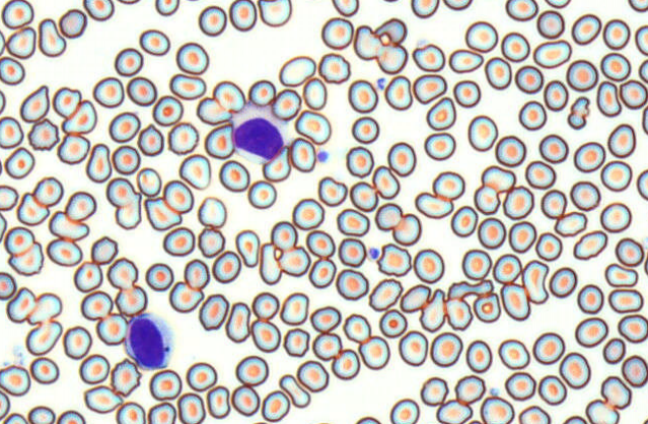LYM: (123, 312, 176, 370)
MONO: (233, 108, 287, 167)
PLT: (317, 148, 331, 164), (367, 246, 381, 261), (374, 77, 388, 91), (489, 387, 503, 399)
RBC: (25, 319, 62, 355), (294, 109, 331, 145), (8, 241, 44, 276), (278, 55, 316, 87), (559, 351, 591, 389), (376, 242, 411, 276), (178, 153, 211, 189), (110, 358, 141, 396), (368, 277, 402, 311), (430, 331, 462, 367), (198, 293, 229, 330), (83, 384, 122, 413), (175, 41, 209, 74), (27, 292, 62, 324), (168, 281, 203, 313), (412, 248, 444, 283), (204, 123, 235, 159), (467, 114, 497, 151), (6, 286, 36, 323), (500, 283, 530, 320), (533, 39, 571, 68), (225, 301, 251, 343), (16, 192, 49, 225), (212, 80, 245, 113), (296, 359, 329, 392), (532, 331, 565, 364), (162, 179, 194, 213), (502, 185, 534, 219), (358, 335, 390, 369), (398, 330, 428, 366), (114, 284, 147, 316), (218, 159, 250, 192), (335, 268, 368, 300), (27, 117, 59, 150), (149, 368, 182, 400), (321, 16, 353, 49), (292, 197, 324, 230), (167, 121, 199, 154), (465, 20, 498, 52), (600, 375, 631, 409), (347, 79, 378, 113), (574, 316, 608, 347), (573, 229, 607, 260), (106, 257, 138, 289), (95, 313, 127, 345), (318, 52, 350, 84), (92, 76, 124, 108), (566, 59, 598, 91), (57, 133, 90, 164), (4, 146, 35, 179), (235, 355, 268, 386), (62, 325, 92, 359), (279, 291, 309, 325), (426, 96, 456, 130), (196, 96, 231, 125), (387, 141, 416, 176), (607, 123, 636, 158), (46, 238, 82, 266), (169, 73, 206, 100), (278, 245, 310, 276), (64, 190, 96, 221), (78, 353, 110, 384), (0, 364, 31, 396), (498, 338, 530, 369), (108, 111, 140, 142), (5, 26, 36, 58), (600, 160, 632, 191), (573, 141, 605, 172), (391, 212, 421, 245), (80, 290, 113, 320), (432, 170, 465, 200), (211, 250, 241, 283), (250, 319, 280, 352), (162, 226, 195, 256), (479, 395, 514, 423), (384, 75, 412, 110), (376, 43, 407, 74), (32, 176, 63, 207), (495, 135, 526, 166), (152, 95, 183, 126), (569, 180, 600, 211), (3, 226, 35, 256), (185, 361, 217, 391), (504, 371, 536, 401), (461, 248, 491, 280), (571, 13, 601, 45), (444, 297, 473, 330), (1, 0, 34, 29), (345, 145, 374, 178), (261, 389, 290, 422), (372, 165, 400, 199), (114, 194, 141, 229), (289, 137, 316, 172), (105, 177, 136, 207), (73, 261, 103, 292), (454, 374, 485, 404), (537, 374, 567, 405), (500, 31, 530, 62), (126, 76, 157, 106), (600, 202, 631, 232), (399, 283, 431, 312), (197, 196, 226, 228), (349, 180, 378, 212), (272, 88, 301, 120), (231, 384, 260, 416), (331, 348, 360, 380), (477, 217, 506, 249), (524, 160, 556, 189), (336, 208, 369, 236), (508, 220, 536, 253), (481, 165, 515, 192), (465, 339, 492, 373), (257, 0, 291, 27), (617, 313, 647, 343), (614, 237, 644, 267), (538, 133, 568, 163), (492, 253, 521, 284), (548, 266, 577, 297), (176, 392, 205, 423), (228, 0, 257, 31), (600, 52, 631, 81), (450, 205, 478, 237), (554, 210, 587, 237), (484, 56, 511, 89), (137, 123, 164, 156), (435, 399, 472, 423), (608, 288, 643, 313), (448, 48, 483, 73), (342, 313, 371, 343), (305, 229, 335, 258), (378, 308, 407, 338), (247, 179, 276, 209), (111, 144, 140, 174), (337, 237, 366, 267), (58, 8, 87, 38), (473, 292, 501, 323), (310, 305, 341, 333), (198, 5, 226, 36), (424, 132, 455, 160), (139, 28, 170, 56), (602, 18, 630, 49), (183, 258, 210, 290), (621, 354, 647, 387), (585, 398, 619, 423), (374, 202, 403, 231), (312, 331, 341, 360), (145, 262, 174, 291), (114, 47, 143, 76), (308, 258, 336, 288), (270, 220, 298, 250), (197, 227, 225, 257), (420, 376, 448, 406), (29, 356, 59, 384), (536, 9, 564, 39), (619, 79, 647, 109), (518, 100, 546, 130), (540, 188, 567, 219), (577, 283, 604, 314), (302, 77, 327, 110), (90, 235, 118, 264), (251, 291, 279, 320), (351, 115, 379, 144), (514, 65, 543, 93), (535, 231, 562, 261), (136, 166, 162, 197), (543, 79, 568, 111), (0, 115, 24, 148), (473, 185, 500, 214), (283, 327, 309, 357), (248, 79, 276, 106), (453, 79, 480, 107), (389, 398, 419, 423), (0, 56, 25, 85), (505, 0, 538, 21), (82, 0, 114, 21), (115, 401, 145, 423), (147, 401, 176, 423), (602, 337, 625, 364), (518, 405, 550, 423), (410, 0, 439, 18), (27, 405, 55, 423), (0, 184, 18, 211), (0, 271, 16, 300), (331, 0, 359, 16), (56, 409, 85, 423), (634, 24, 647, 55), (154, 0, 179, 16), (636, 168, 647, 200), (0, 390, 10, 420), (443, 0, 472, 10), (2, 412, 28, 423), (628, 0, 647, 12), (638, 58, 647, 83), (354, 415, 381, 423), (0, 212, 7, 242), (544, 0, 570, 8), (562, 415, 587, 423), (641, 105, 647, 134), (0, 89, 6, 114), (0, 29, 5, 55), (117, 0, 140, 4), (466, 419, 482, 423), (382, 0, 399, 3)
Schistocyte: (143, 197, 187, 231), (419, 286, 448, 336), (60, 99, 98, 135), (37, 18, 70, 59), (48, 210, 89, 241), (522, 260, 550, 304), (85, 139, 113, 183), (19, 85, 50, 123), (414, 192, 454, 221), (415, 74, 450, 106), (353, 25, 384, 60), (595, 81, 624, 118), (258, 242, 282, 286), (280, 374, 311, 408), (234, 231, 261, 269), (604, 262, 640, 290), (413, 45, 446, 73), (53, 86, 82, 117), (375, 18, 408, 45), (447, 281, 491, 300), (569, 97, 592, 130)
